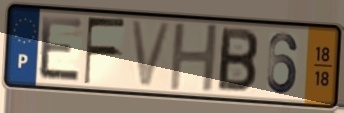6: (266, 31, 300, 96)
B: (215, 25, 261, 96)
E: (38, 13, 85, 85)
F: (82, 16, 128, 87)
H: (167, 22, 221, 94)
V: (128, 18, 175, 91)
